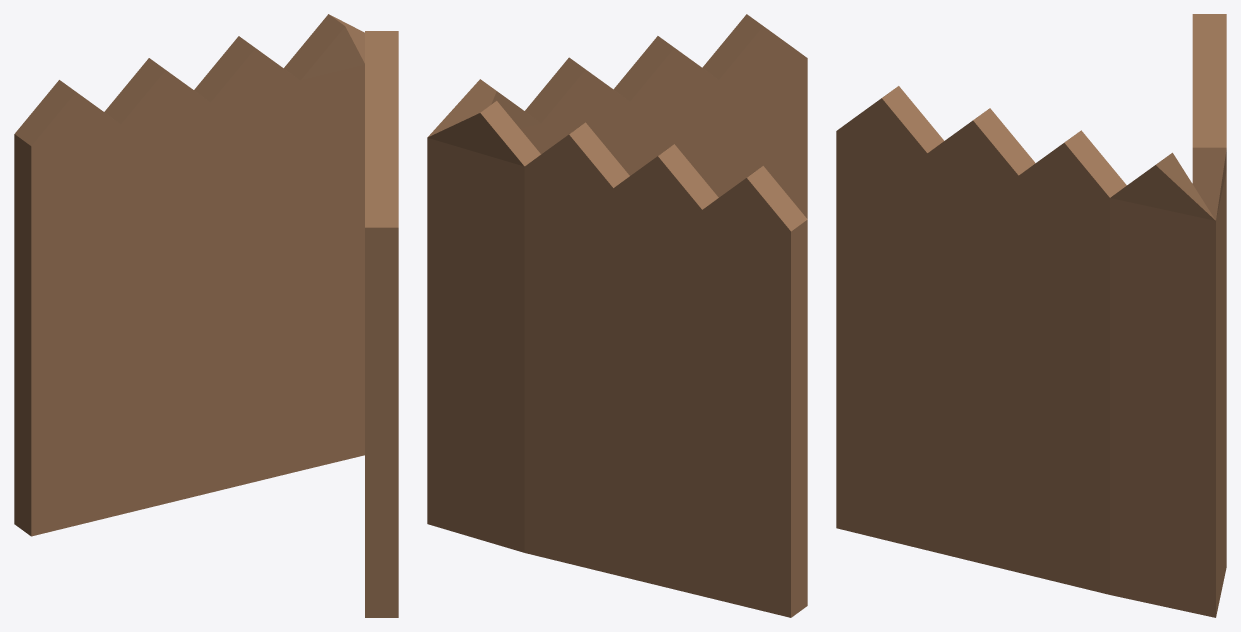
The model's file is fence3.fbx.
The picture shows the model from 3 angles, left to right: view 1: azimuth 30°, elevation 25°; view 2: azimuth 150°, elevation 25°; view 3: azimuth 270°, elevation 25°; orthographic projection. The views are drawn at different scales.
Parts seen in each view (by area): view 1: Cylinder; view 2: Cylinder; view 3: Cylinder.
Boxes of the visible parts, x1=… form: Cylinder: x1=14, y1=14, x2=398, y2=617; Cylinder: x1=427, y1=14, x2=807, y2=617; Cylinder: x1=836, y1=14, x2=1226, y2=617.
Size of the model in its own units: 0.8998 by 1 by 0.8025.
